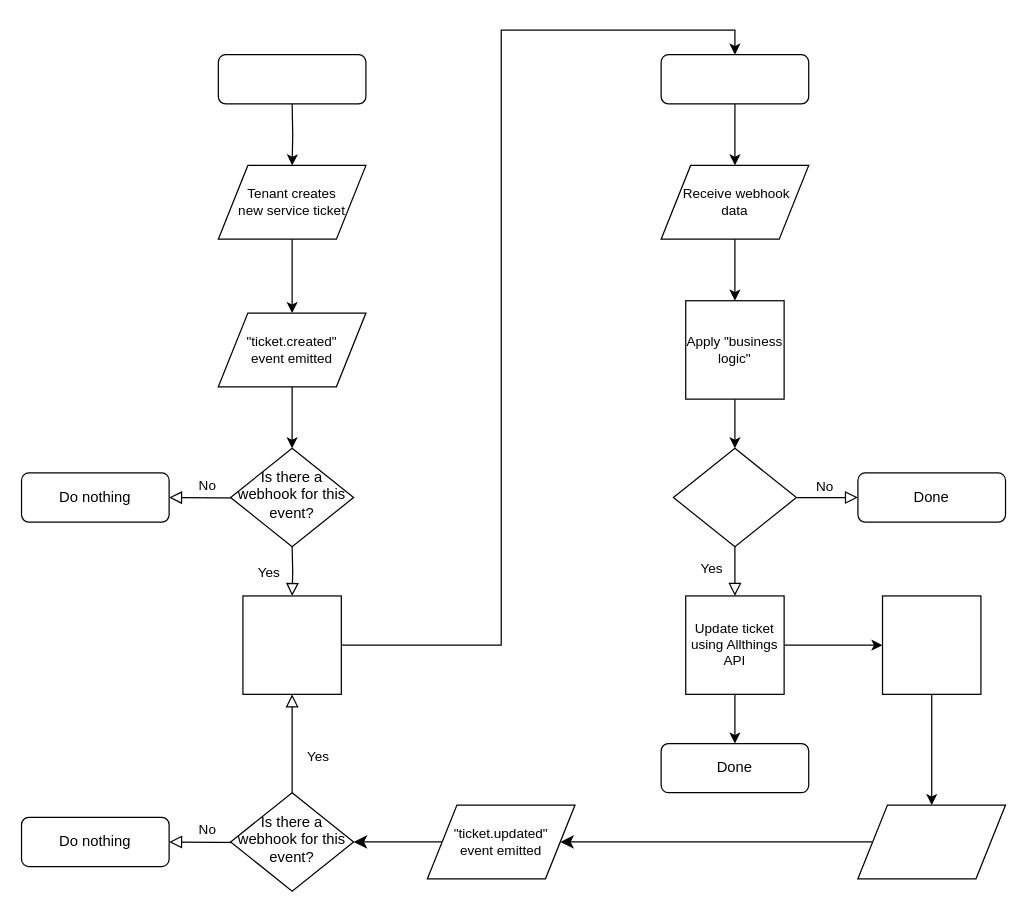
This 1027x913 diagram has some shape labels left out. The centre of each missing label's shape, as x and y in pixels:
"Deliver event to Webhook" goes at [291,644].
"Is there an update for the ticket?" goes at [734,497].
"Tenant App" goes at [291,79].
"Tenant is notified about update" goes at [931,644].
"Tenant replies to ticket" goes at [931,841].
"Webhook endpoint" goes at [734,79].
